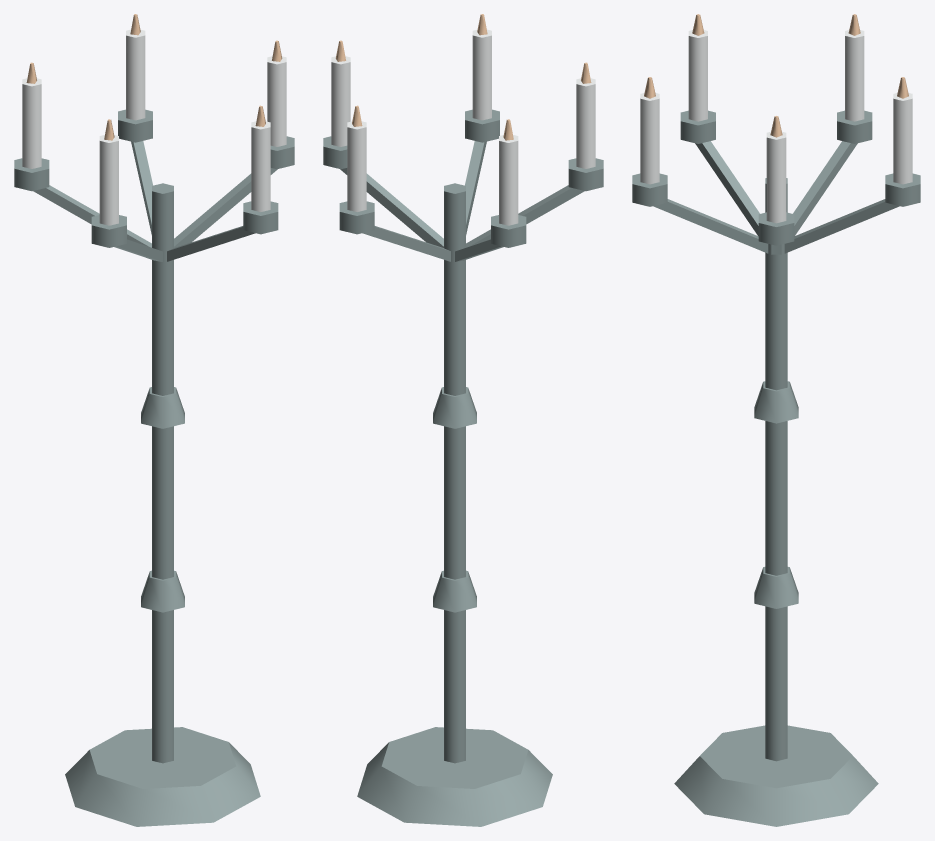
File: floorLampCandelabra.glb
3 renders of one model, left to right at view 1: azimuth 30°, elevation 25°; view 2: azimuth 150°, elevation 25°; view 3: azimuth 270°, elevation 25°, orthographic.
Visible parts, largest first — view 1: floorLampCandelabra; view 2: floorLampCandelabra; view 3: floorLampCandelabra.
Part boxes in pixels (x1=…): floorLampCandelabra: x1=14, y1=14, x2=294, y2=826; floorLampCandelabra: x1=323, y1=14, x2=603, y2=826; floorLampCandelabra: x1=632, y1=14, x2=920, y2=826.
Bounding box in the file's own units: 0.2752 × 0.78 × 0.2819.
